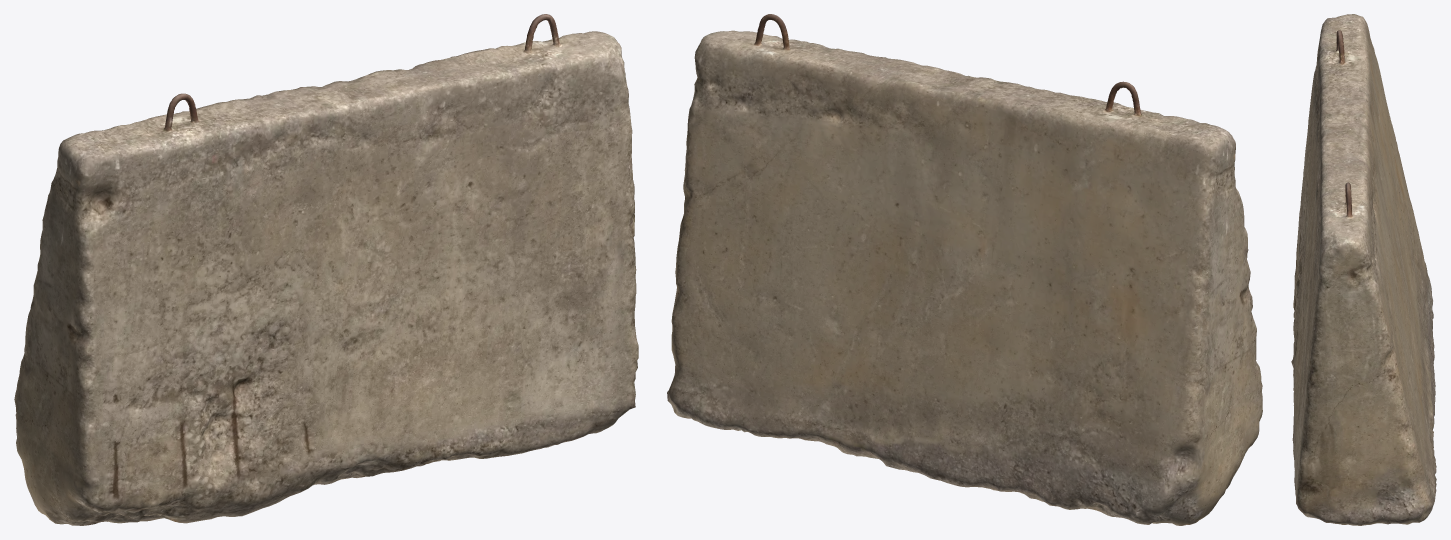
File: concrete_road_barrier_02_1k.high.glb
3 renders of one model, left to right at view 1: azimuth 30°, elevation 25°; view 2: azimuth 150°, elevation 25°; view 3: azimuth 270°, elevation 25°, orthographic. The views are drawn at different scales.
Visible parts, largest first — view 1: concrete_road_barrier_02; view 2: concrete_road_barrier_02; view 3: concrete_road_barrier_02.
Boxes of the visible parts, <box> form: concrete_road_barrier_02: <box>14,14,638,525</box>; concrete_road_barrier_02: <box>667,14,1262,525</box>; concrete_road_barrier_02: <box>1291,14,1436,525</box>.
Size of the model in its own units: 1.57 by 1.11 by 0.4422.
Materials: 1 (1 with a texture image).
